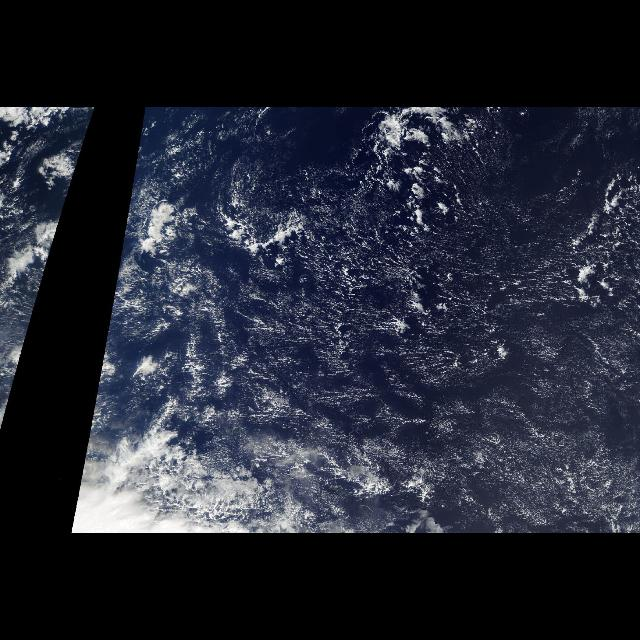Gravel: (345, 107, 639, 315)
Sugar: (97, 251, 639, 533)
